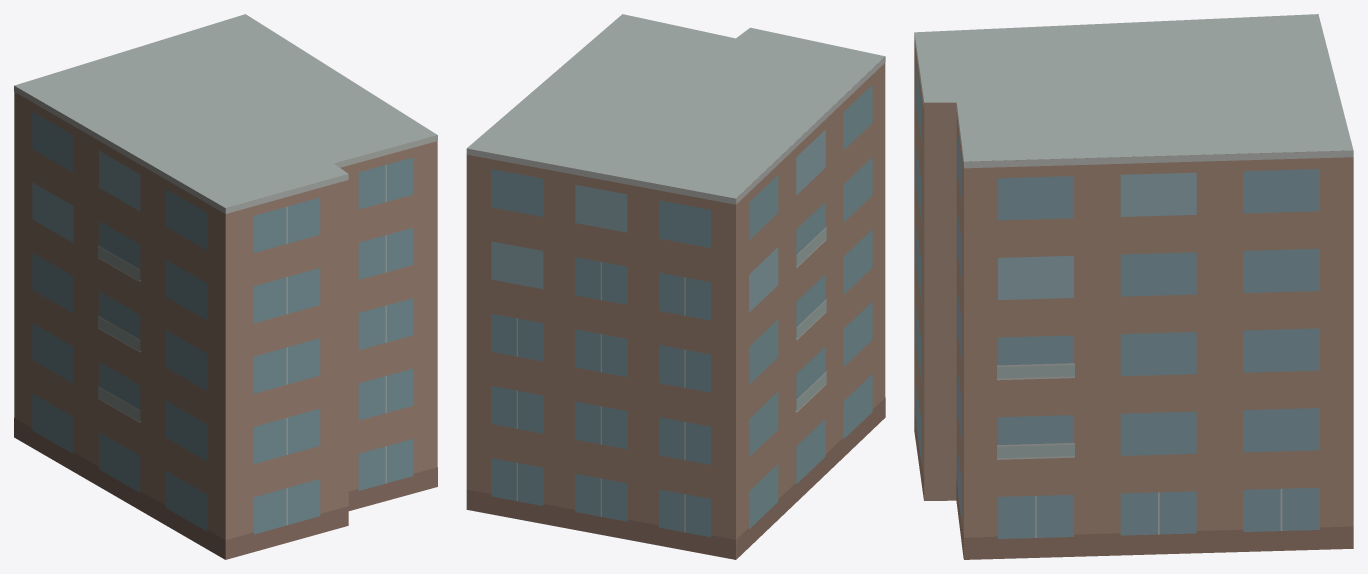
Rendered from survey-upis-32604337.glb.
3 renders of one model, left to right at view 1: azimuth 30°, elevation 25°; view 2: azimuth 150°, elevation 25°; view 3: azimuth 270°, elevation 25°, orthographic. The views are drawn at different scales.
Visible parts, largest first — view 1: survey-upis-32604337.tmp; view 2: survey-upis-32604337.tmp; view 3: survey-upis-32604337.tmp.
Boxes of the visible parts, x1,y1,x2,y2 form: survey-upis-32604337.tmp: (14,14,437,559); survey-upis-32604337.tmp: (466,14,885,559); survey-upis-32604337.tmp: (914,14,1353,559).
Bounding box in the file's own units: 11.45 × 14.4 × 14.4.
